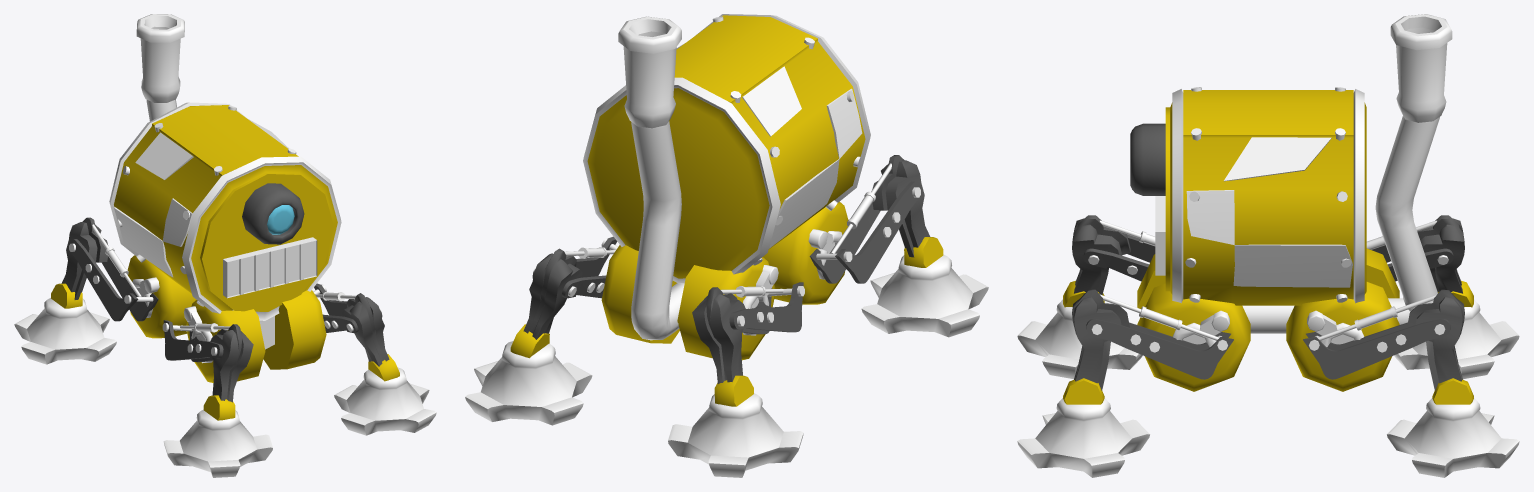
The model's file is Basic_shooter_enemy 1.fbx.
The picture shows the model from 3 angles, left to right: view 1: azimuth 30°, elevation 25°; view 2: azimuth 150°, elevation 25°; view 3: azimuth 270°, elevation 25°; orthographic projection. The views are drawn at different scales.
Parts seen in each view (by area): view 1: Basic_Shooter; view 2: Basic_Shooter; view 3: Basic_Shooter.
Part boxes in pixels (box(x1,y1,x2,y2)): Basic_Shooter: box(14, 14, 436, 477); Basic_Shooter: box(465, 14, 988, 477); Basic_Shooter: box(1017, 14, 1519, 477).
Bounding box in the file's own units: 159 × 183 × 219.
